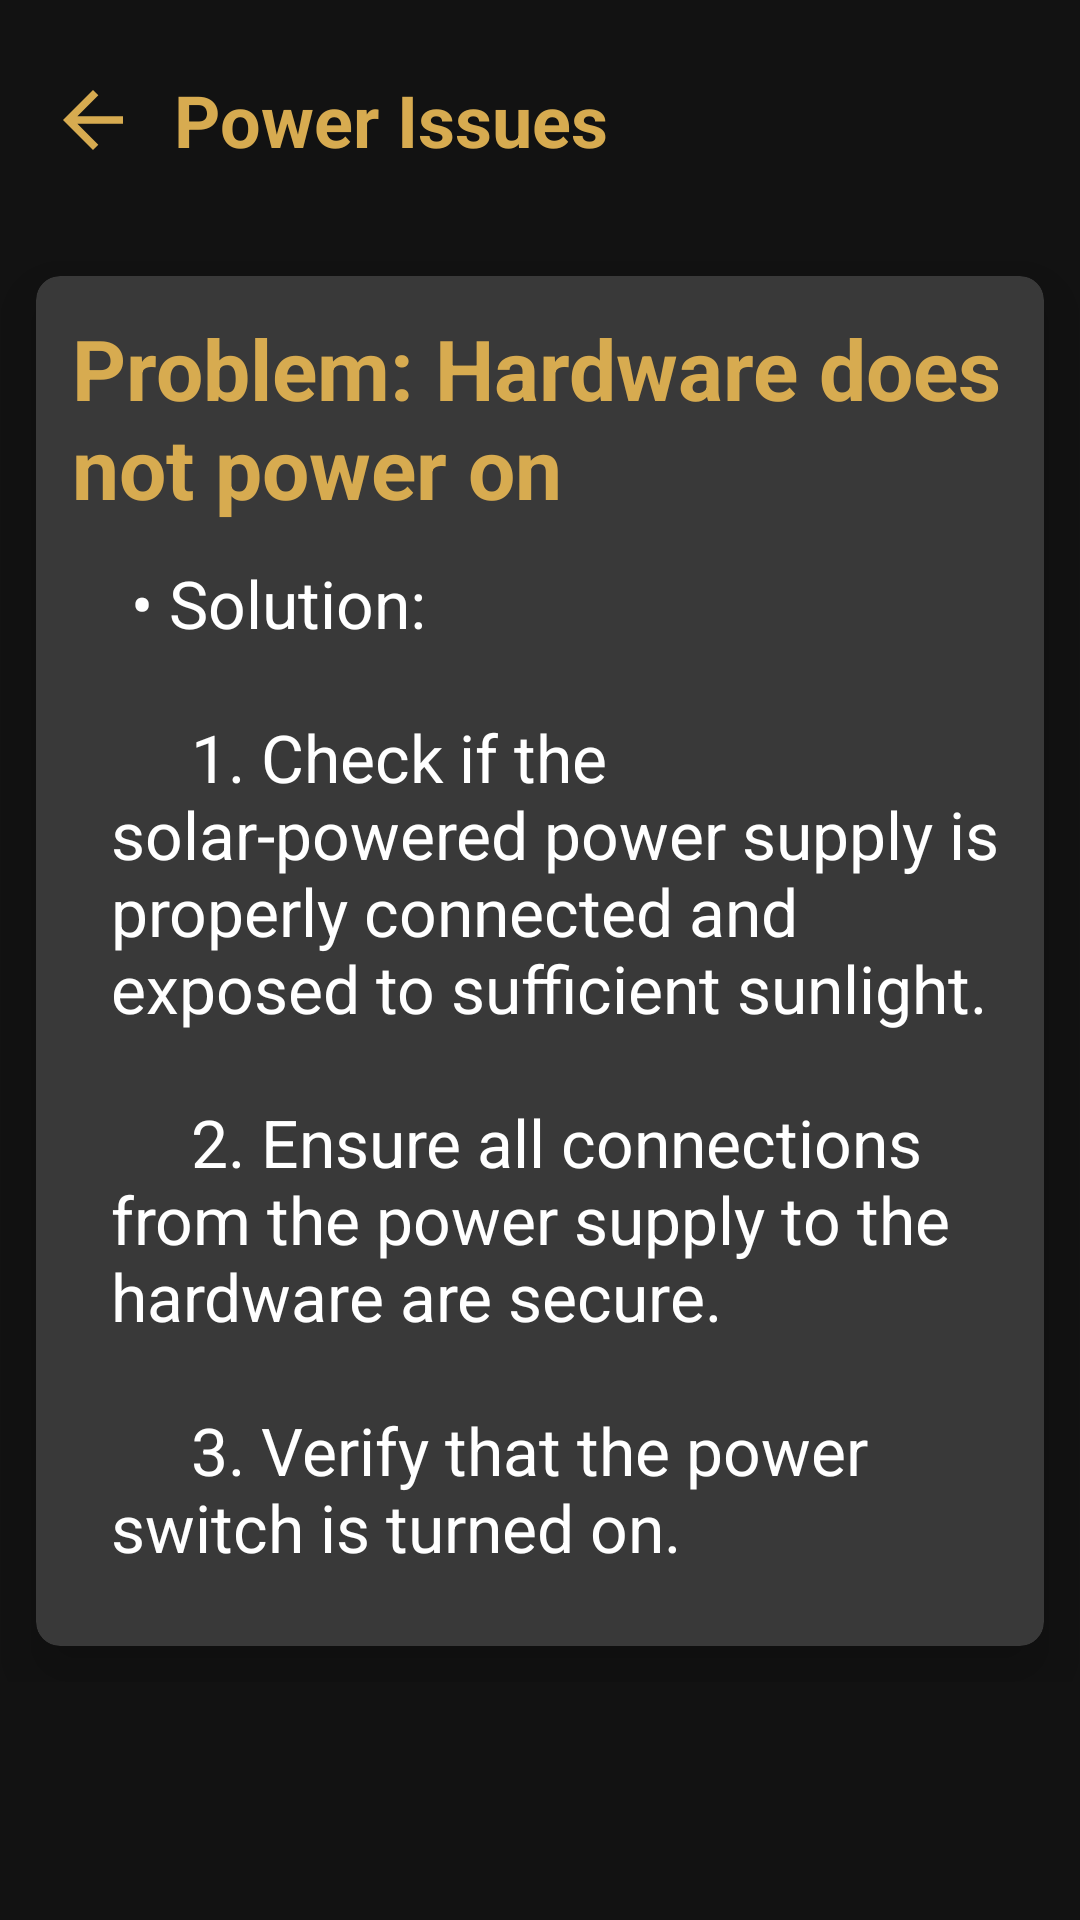

Where icons sit on this 1080px x 1920px app screen, as (x1, y1, x2, y2):
arrow back: (63, 90, 123, 150)
